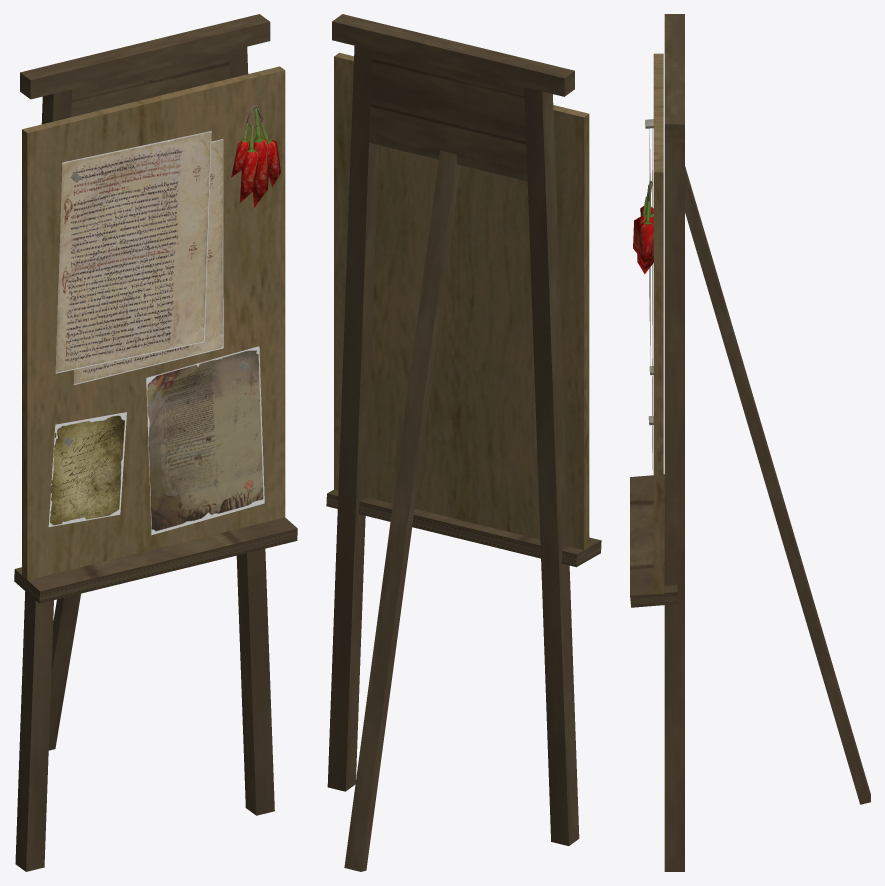
The model's file is menu-stand01.glb.
3 renders of one model, left to right at view 1: azimuth 30°, elevation 25°; view 2: azimuth 150°, elevation 25°; view 3: azimuth 270°, elevation 25°, orthographic. The views are drawn at different scales.
Visible parts, largest first — view 1: menu-stand01; view 2: menu-stand01; view 3: menu-stand01.
Boxes of the visible parts, x1,y1,x2,y2 form: menu-stand01: (14,14,297,871); menu-stand01: (326,14,601,871); menu-stand01: (630,14,870,871).
Bounding box in the file's own units: 0.5596 × 1.64 × 0.4803.
6 materials, 6 textured.
